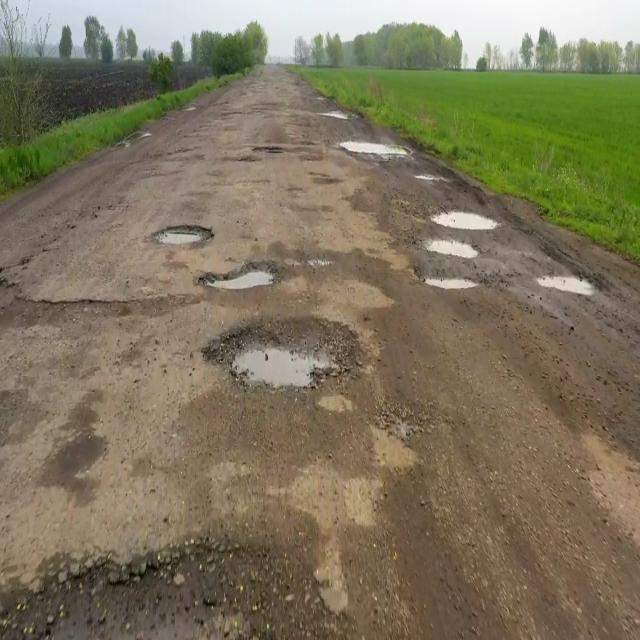road-pothole: (28, 561, 258, 633), (226, 328, 340, 385), (203, 263, 280, 300), (433, 204, 501, 241), (425, 233, 486, 264), (426, 270, 474, 300), (534, 275, 592, 298), (337, 141, 409, 158), (155, 230, 215, 246)
